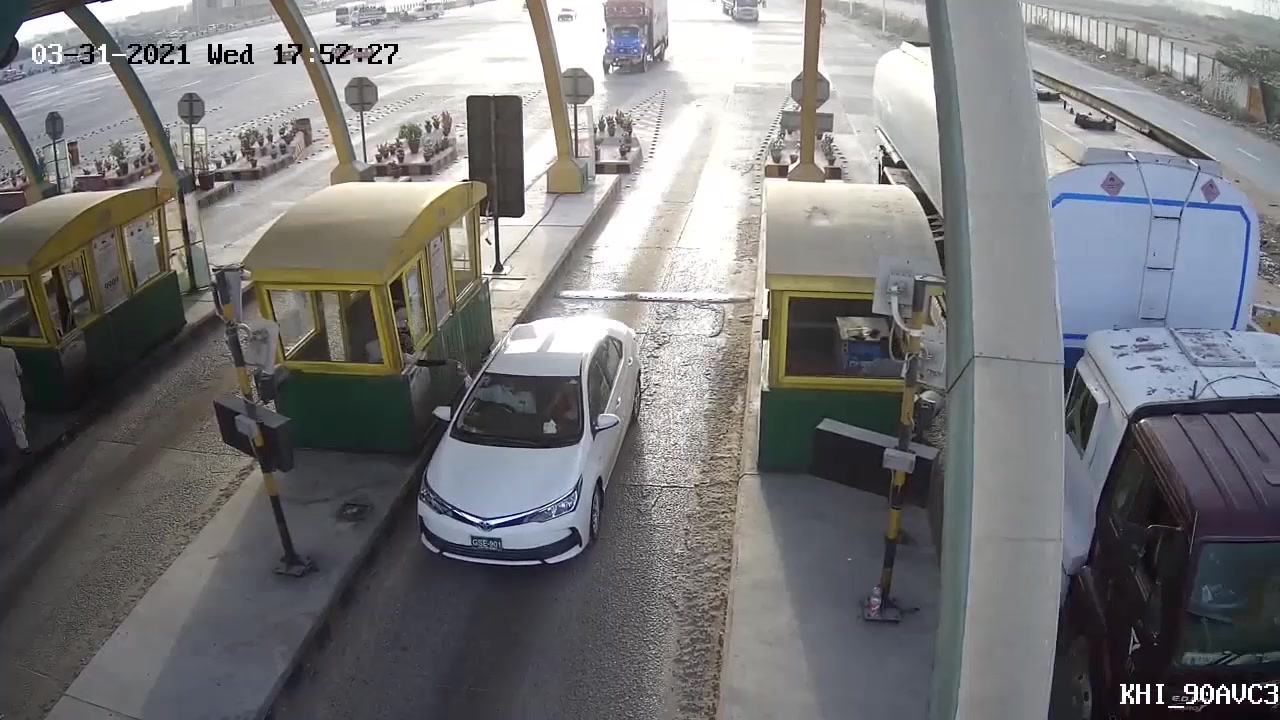F1: (385, 311, 644, 575)
